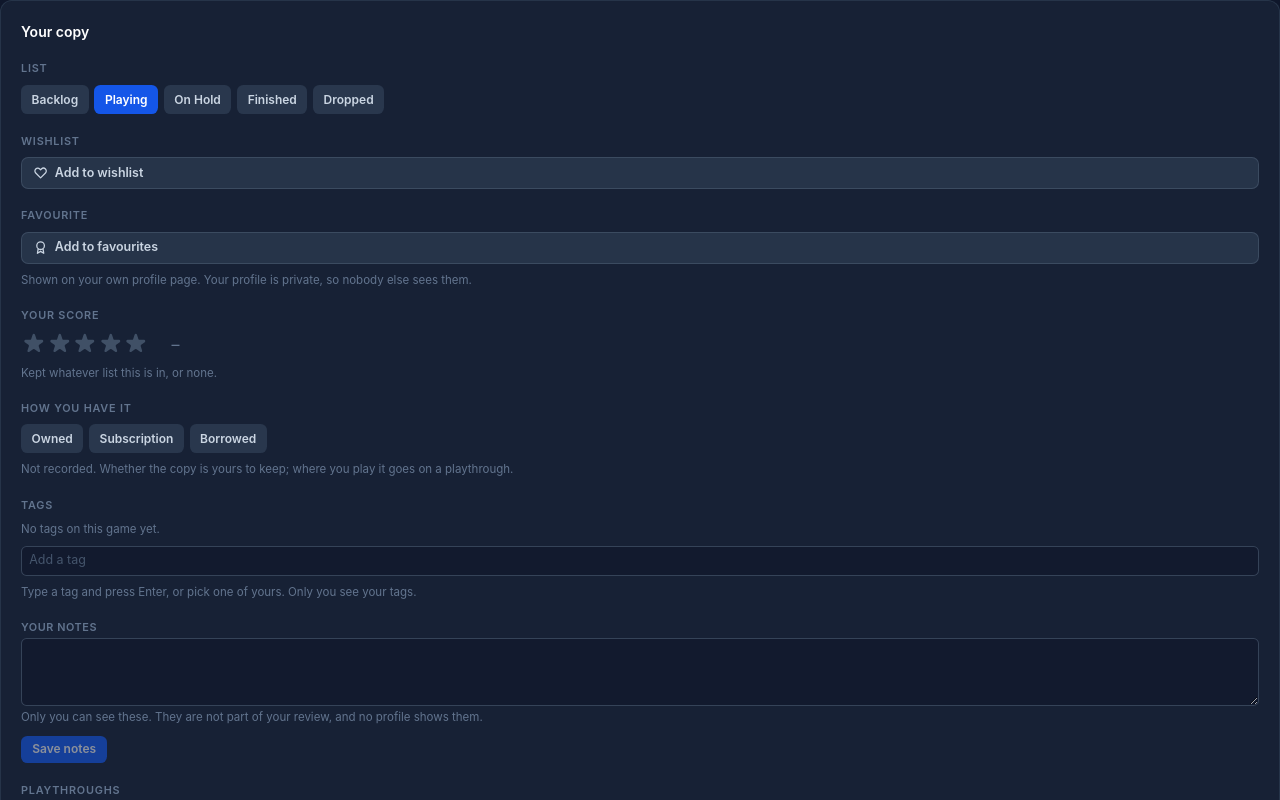
Test: GameUserPanel moving between lists, with the real provider › says so when the API refuses the move, rather than only putting it back
This screenshot has width=1280, height=800.
Expected: the element named "Your score for Celeste" is enabled, [21, 331, 179, 356]
Expected: the button "Add to wishlist" is enabled, [21, 157, 1259, 189]
Click the button "Finished".
click(272, 100)  # box [237, 85, 307, 114]
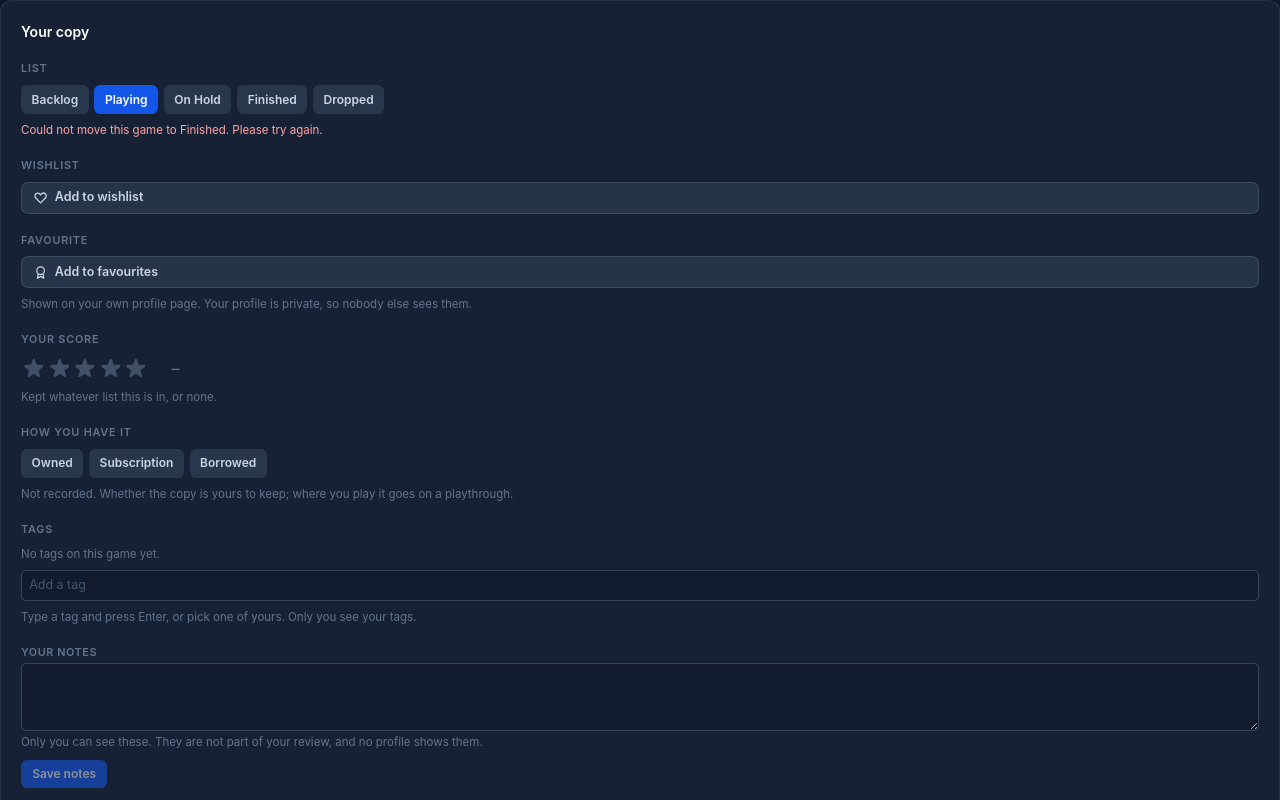
Result: the message reads "Could not move this game to Finished. Please try again." at [21, 123, 323, 137]
